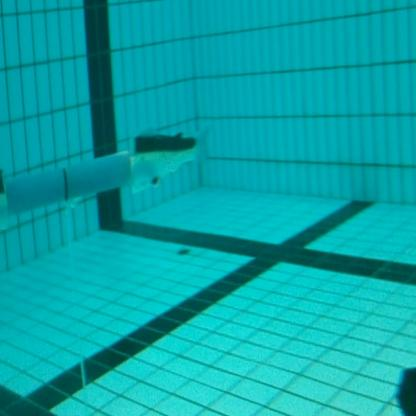tail: (128, 120, 210, 195)
